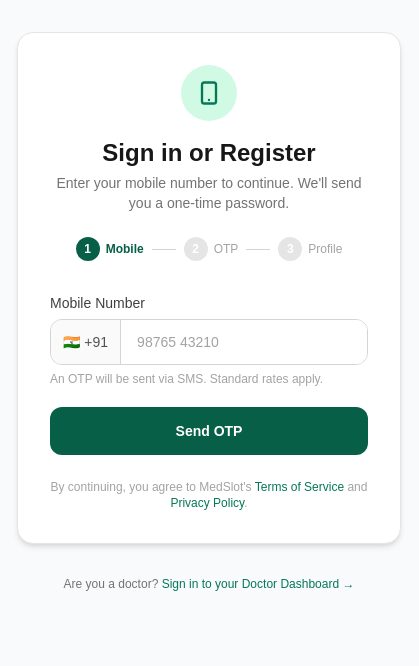
Test: PatientOtpAuth › Step 1 — Phone entry › shows error banner on 429 (rate limited) response
In the field labelled "Mobile Number": (244, 342) [121, 320, 367, 364], type "9876543210"
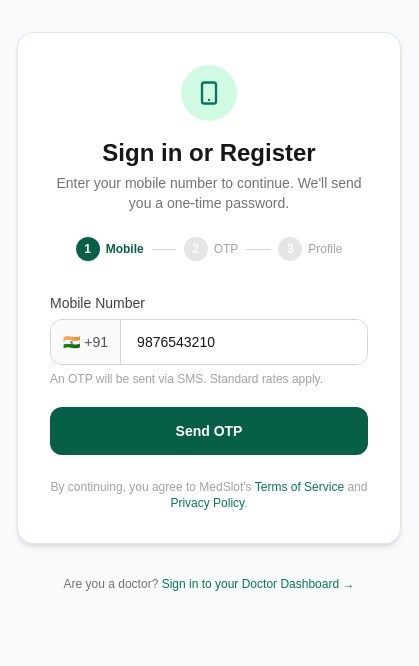
Click the button "Send OTP": (209, 431) [50, 407, 368, 455]
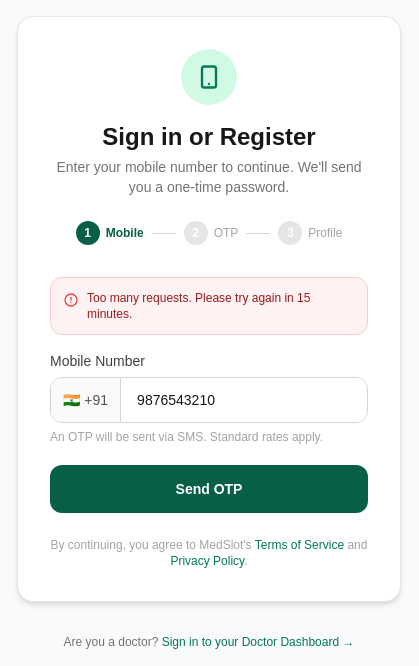
Now the message "Too many requests. Please try again in 15 minutes." is shown, box [50, 277, 368, 335]
Now the text "Too many requests. Please try again in 15 minutes." is shown, box [87, 291, 310, 321]
